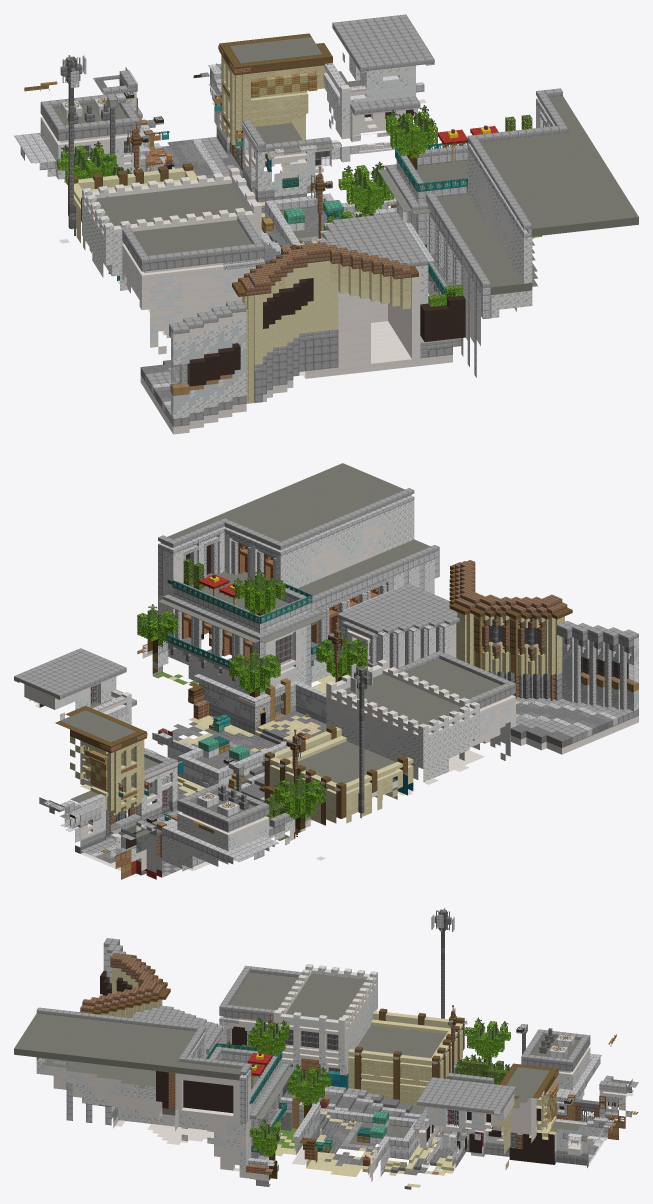
The model's file is dust.glb.
The picture shows the model from 3 angles, top to bottom: view 1: azimuth 30°, elevation 25°; view 2: azimuth 150°, elevation 25°; view 3: azimuth 270°, elevation 25°; orthographic projection. The views are drawn at different scales.
Visible parts, largest first — view 1: Light_Concrete, Stone_Slab, Quartz, Calcite, White_Concrete_Powder, Smooth_Stone, Polished_Diorite, Smooth_Sandstone, Gray_Terracotta, Jungle_Leaves, Smooth_Quartz_Stairs, Double_Stone_Slab.001 (+24 smaller); view 2: Light_Concrete, Stone_Slab, Calcite, Quartz, White_Concrete_Powder, Polished_Diorite, Jungle_Leaves, Diorite_Wall, Smooth_Stone, Stone, Sandstone_Wall, Double_Stone_Slab.001 (+36 smaller); view 3: Light_Concrete, Stone_Slab, Quartz, Calcite, White_Concrete_Powder, Polished_Diorite, Gray_Terracotta, Jungle_Leaves, Smooth_Sandstone, Smooth_Sandstone_Slab, Stripped_Spruce_Wood, Smooth_Stone (+35 smaller).
Part boxes in pixels (box(x1,y1,x2,y2)): Light_Concrete: box(53, 37, 638, 294); Stone_Slab: box(40, 14, 568, 334); Quartz: box(44, 69, 538, 434); Calcite: box(40, 52, 550, 418); White_Concrete_Powder: box(43, 59, 542, 342); Smooth_Stone: box(40, 78, 452, 426); Polished_Diorite: box(14, 72, 491, 412); Smooth_Sandstone: box(74, 81, 432, 364); Gray_Terracotta: box(187, 109, 465, 386); Jungle_Leaves: box(57, 111, 463, 306); Smooth_Quartz_Stairs: box(40, 79, 417, 279); Double_Stone_Slab.001: box(119, 64, 541, 371); Light_Concrete: box(60, 463, 501, 837); Stone_Slab: box(14, 488, 638, 854); Calcite: box(39, 500, 638, 870); Quartz: box(24, 522, 638, 871); White_Concrete_Powder: box(24, 515, 510, 872); Polished_Diorite: box(49, 547, 618, 871); Jungle_Leaves: box(137, 574, 367, 818); Diorite_Wall: box(162, 540, 626, 785); Smooth_Stone: box(121, 628, 638, 877); Stone: box(141, 633, 608, 875); Sandstone_Wall: box(82, 612, 564, 811); Double_Stone_Slab.001: box(49, 638, 562, 846); Light_Concrete: box(14, 972, 630, 1145); Stone_Slab: box(36, 938, 632, 1162); Quartz: box(49, 946, 617, 1181); Calcite: box(36, 952, 631, 1180); White_Concrete_Powder: box(43, 993, 608, 1164); Polished_Diorite: box(45, 1053, 618, 1173); Gray_Terracotta: box(98, 970, 618, 1164); Jungle_Leaves: box(226, 1021, 510, 1158); Smooth_Sandstone: box(112, 967, 551, 1176); Smooth_Sandstone_Slab: box(348, 1010, 462, 1172); Stripped_Spruce_Wood: box(354, 1017, 558, 1099); Smooth_Stone: box(113, 943, 638, 1167).
Size of the model in its own units: 65.73 by 29 by 93.55.
132 materials, 132 textured.
